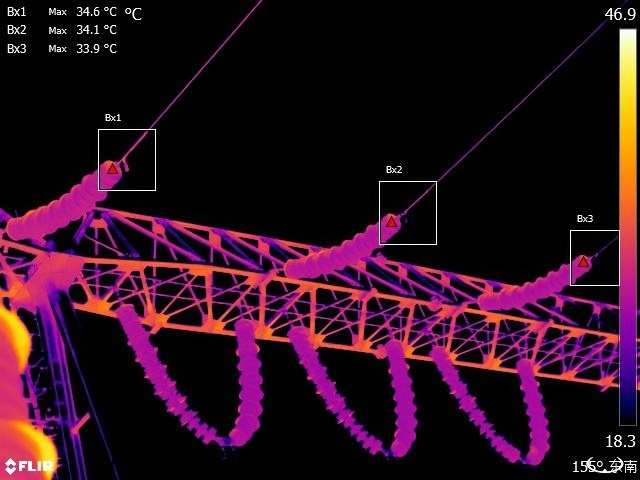lightning arrester: (117, 300, 223, 450), (287, 321, 387, 461), (432, 339, 521, 466), (8, 158, 126, 245), (279, 211, 407, 283), (473, 252, 599, 314), (224, 312, 263, 451), (380, 340, 421, 465), (514, 350, 553, 466)
